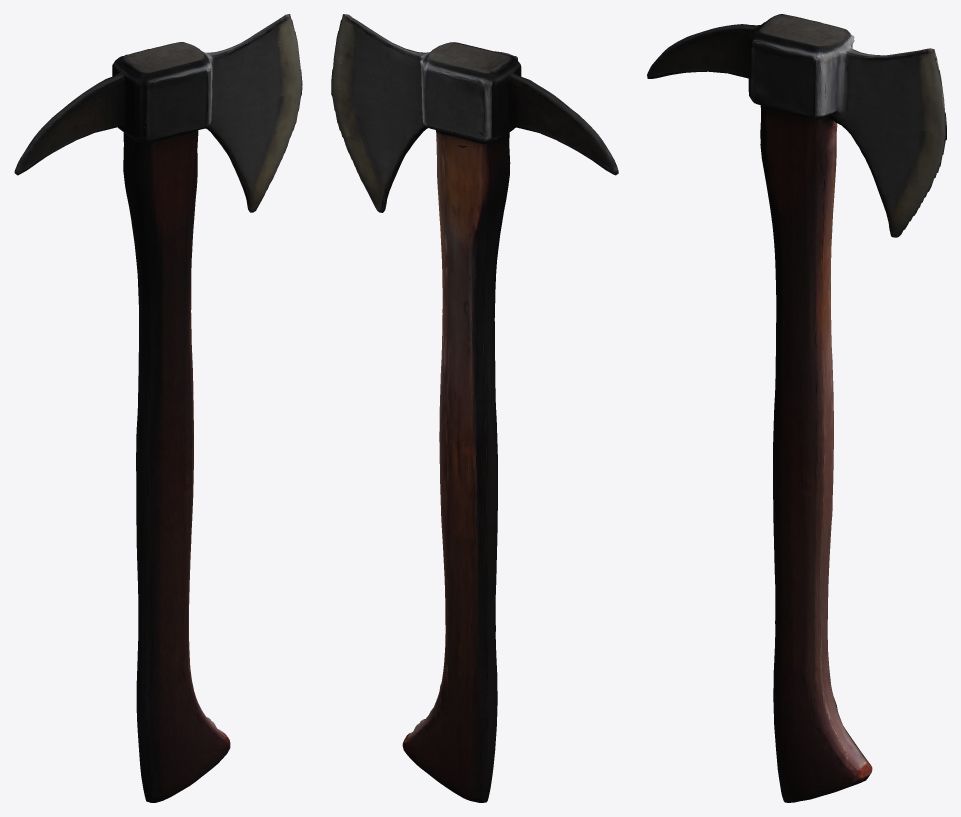
The model's file is asset.glb.
3 renders of one model, left to right at view 1: azimuth 30°, elevation 25°; view 2: azimuth 150°, elevation 25°; view 3: azimuth 330°, elevation 25°, orthographic. The views are drawn at different scales.
Parts seen in each view (by area): view 1: world; view 2: world; view 3: world.
Boxes of the visible parts, box(x1,y1,x2,y2) form: world: box(14, 14, 302, 802); world: box(331, 14, 618, 802); world: box(647, 14, 946, 802).
Size of the model in its own units: 0.3967 by 0.9926 by 0.0833.
Materials: 1 (1 with a texture image).
